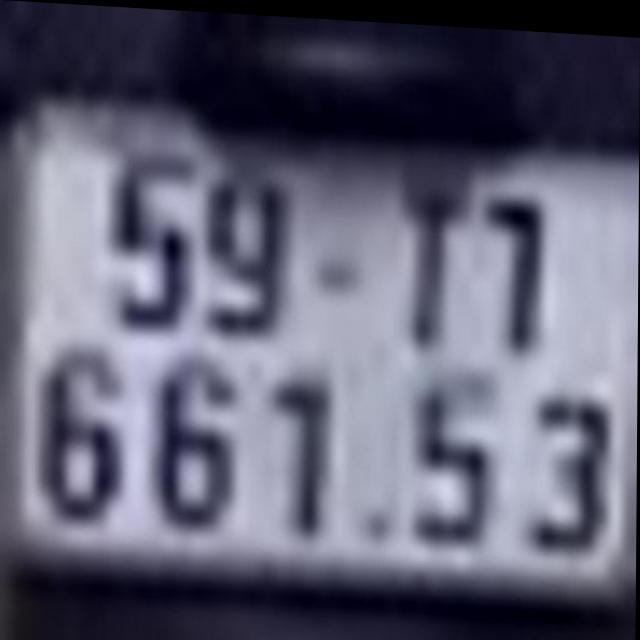1: (271, 354, 331, 541), (491, 164, 550, 348)
3: (535, 367, 608, 549)
5: (108, 140, 195, 326), (407, 352, 491, 537)
6: (47, 334, 119, 525), (164, 354, 236, 524)
9: (212, 152, 284, 330)
T: (395, 175, 476, 345)
